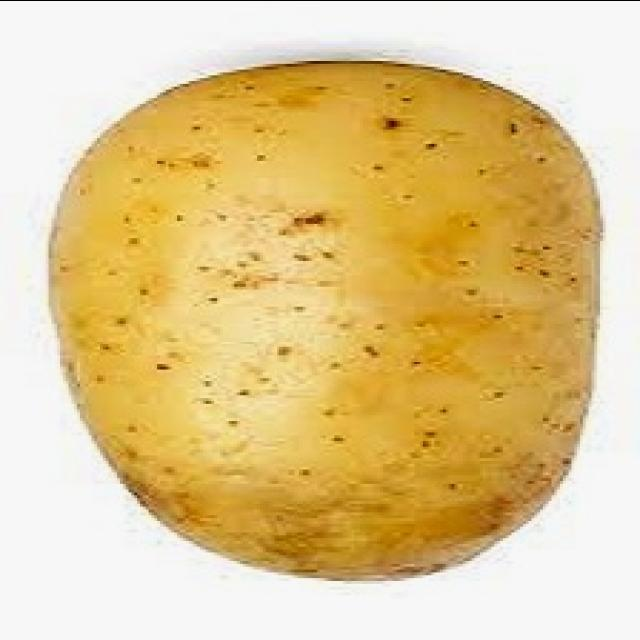healthy: (31, 42, 616, 600)
